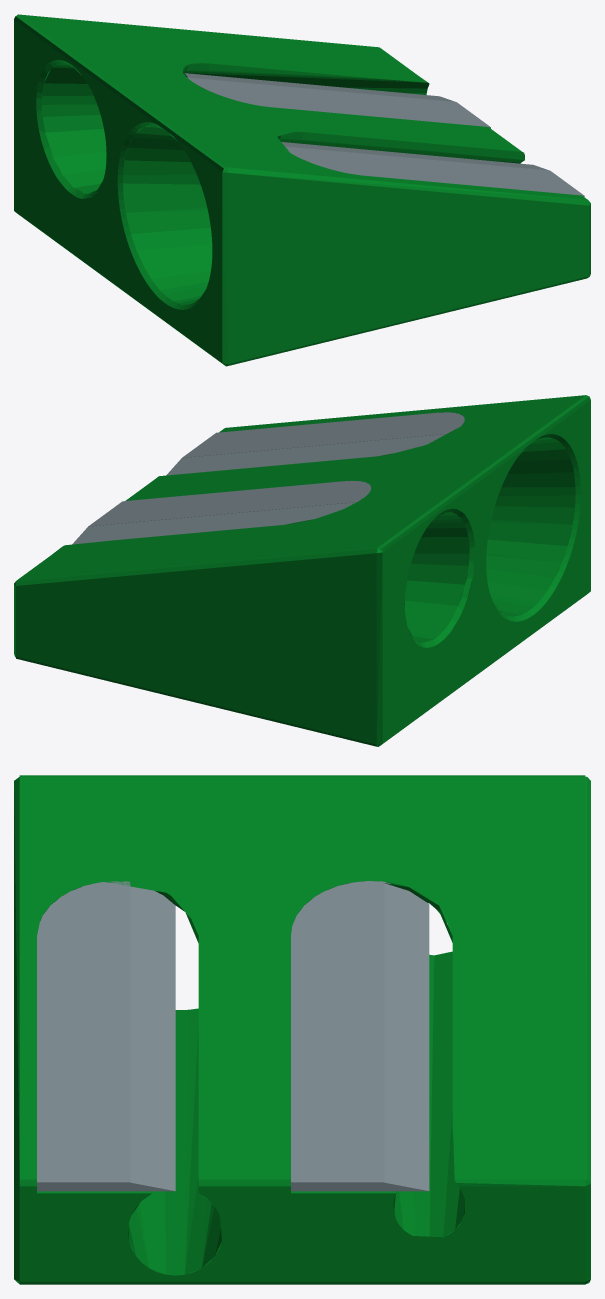
Rendered from Basic_Low_Poly_Sharpner (Faces 657)_fbx.fbx.
3 views of the same model, one above another, from view 1: azimuth 30°, elevation 25°; view 2: azimuth 150°, elevation 25°; view 3: azimuth 270°, elevation 25° (orthographic). The views are drawn at different scales.
Parts seen in each view (by area): view 1: Low_Poly_Sharpner; view 2: Low_Poly_Sharpner; view 3: Low_Poly_Sharpner.
Boxes of the visible parts, box(x1,y1,x2,y2) form: Low_Poly_Sharpner: box(14, 14, 590, 366); Low_Poly_Sharpner: box(14, 395, 590, 746); Low_Poly_Sharpner: box(14, 775, 590, 1284).
Size of the model in its own units: 11.45 by 5.91 by 11.45.
